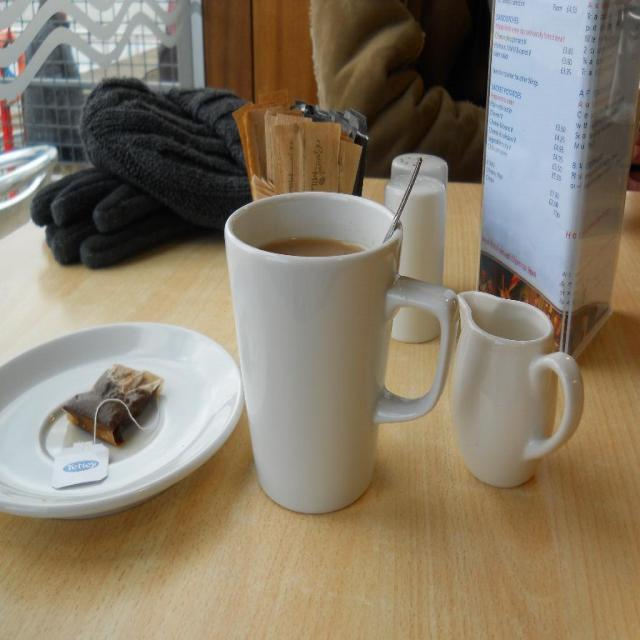Coffee: (217, 184, 446, 514)
Tea: (257, 236, 373, 258)
